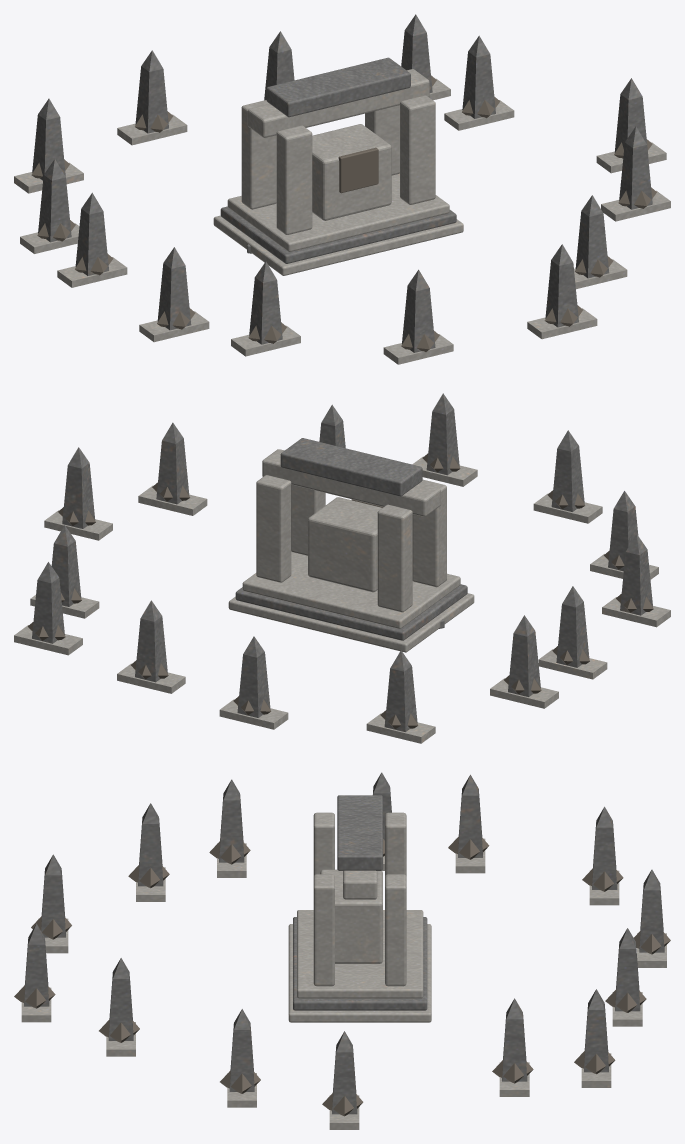
The model's file is AF_ShrineCourtyard_Baked.glb.
3 views of the same model, one above another, from view 1: azimuth 30°, elevation 25°; view 2: azimuth 150°, elevation 25°; view 3: azimuth 270°, elevation 25° (orthographic). The views are drawn at different scales.
Visible parts, largest first — view 1: AF_ShrineCourtyard_Baked; view 2: AF_ShrineCourtyard_Baked; view 3: AF_ShrineCourtyard_Baked.
Boxes of the visible parts, x1,y1,x2,y2 form: AF_ShrineCourtyard_Baked: (14,14,670,364); AF_ShrineCourtyard_Baked: (14,393,670,743); AF_ShrineCourtyard_Baked: (14,772,670,1129).
Size of the model in its own units: 11.43 by 2.93 by 11.04.
Materials: 1 (1 with a texture image).
